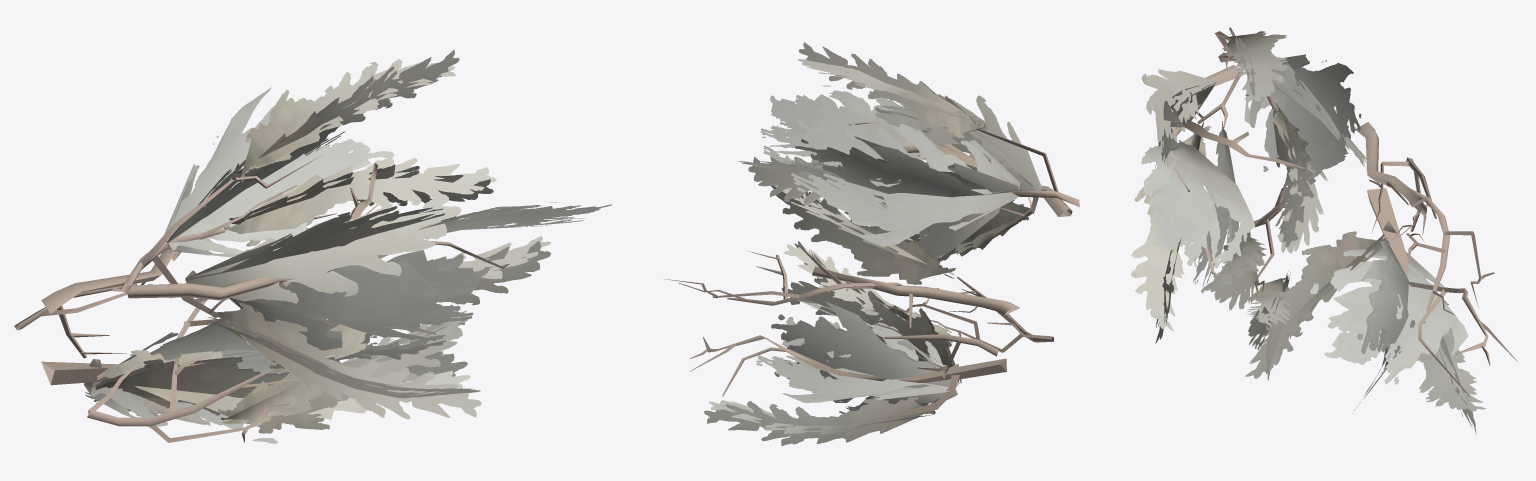
Rendered from props_foliage_shrub_03c.glb.
3 renders of one model, left to right at view 1: azimuth 30°, elevation 25°; view 2: azimuth 150°, elevation 25°; view 3: azimuth 270°, elevation 25°, orthographic. The views are drawn at different scales.
Visible parts, largest first — view 1: models/props_foliage/shrub_03c; view 2: models/props_foliage/shrub_03c; view 3: models/props_foliage/shrub_03c.
Boxes of the visible parts, x1,y1,x2,y2 form: models/props_foliage/shrub_03c: (14,50,612,443); models/props_foliage/shrub_03c: (661,42,1079,445); models/props_foliage/shrub_03c: (1131,27,1517,434).
Size of the model in its own units: 68.27 by 64.19 by 57.61.
Materials: 1 (1 with a texture image).
